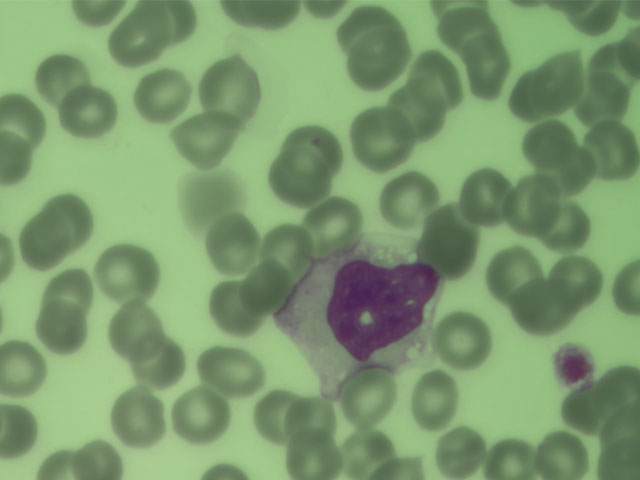Platelets: (551, 342, 598, 392)
RBC: (133, 70, 191, 123), (35, 298, 93, 351), (59, 84, 117, 137), (35, 50, 93, 103), (257, 224, 315, 277), (170, 392, 228, 445), (109, 301, 167, 354), (129, 340, 187, 393), (110, 392, 168, 445), (98, 244, 156, 297), (304, 197, 362, 250), (269, 152, 327, 205), (181, 170, 239, 223), (204, 222, 262, 275), (534, 427, 592, 480), (409, 373, 467, 426), (341, 370, 399, 423), (281, 392, 339, 445), (537, 201, 595, 254), (549, 254, 607, 307), (514, 283, 572, 336), (483, 248, 541, 301), (505, 180, 563, 233), (456, 172, 514, 225), (419, 219, 477, 272), (377, 173, 435, 226), (351, 112, 409, 165), (350, 32, 408, 85), (112, 10, 170, 63), (435, 311, 493, 364), (582, 34, 640, 87), (582, 72, 640, 125), (582, 127, 640, 180), (524, 122, 582, 175), (515, 56, 573, 109), (459, 43, 517, 96), (387, 85, 445, 138), (178, 110, 236, 163), (203, 55, 261, 108), (221, 1, 306, 37), (438, 1, 496, 53), (205, 278, 258, 334), (200, 349, 267, 393), (1, 335, 49, 396), (409, 47, 460, 103), (429, 427, 486, 476), (251, 389, 298, 447), (41, 190, 95, 240), (1, 88, 46, 145), (284, 122, 342, 166), (589, 375, 640, 424), (334, 432, 389, 477), (337, 4, 400, 42), (284, 434, 338, 478), (67, 436, 122, 479), (483, 434, 534, 479), (1, 126, 38, 186), (600, 426, 640, 480), (608, 255, 640, 322), (20, 218, 60, 270), (561, 1, 621, 34), (1, 404, 38, 456), (50, 270, 92, 313), (373, 447, 428, 479), (246, 265, 284, 311), (137, 1, 197, 30), (37, 442, 80, 480), (198, 452, 252, 479), (69, 1, 118, 26)
WBC: (311, 252, 441, 368)
